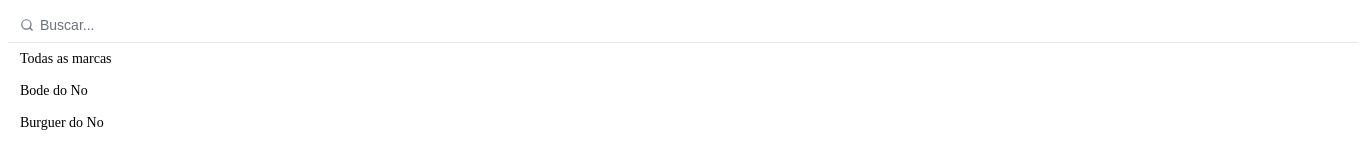
Test: SelectFilter › Busca › RF14: exibe mensagem quando busca sem resultados
This screenshot has width=1366, height=160.
Type "xyz123" into the field with class "select-filter__search-input". click: (692, 25)
box: top-left (38, 16), bottom-right (1346, 34)
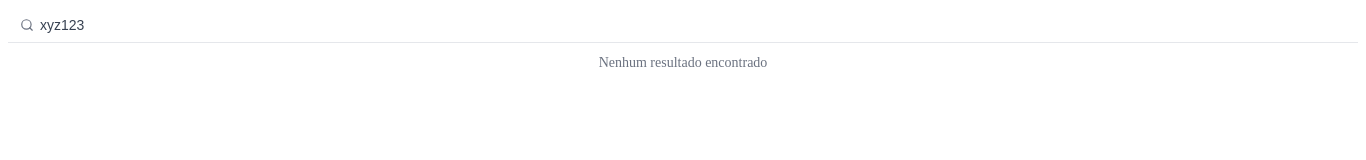
Result: the text "Nenhum resultado encontrado" is shown at top-left (599, 55), bottom-right (767, 70)
